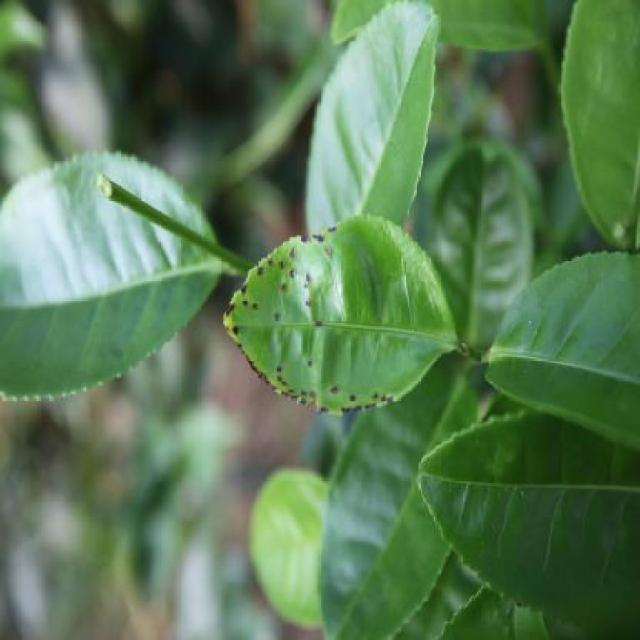Tea Mosquito bug infested leaf: (222, 206, 436, 419)
